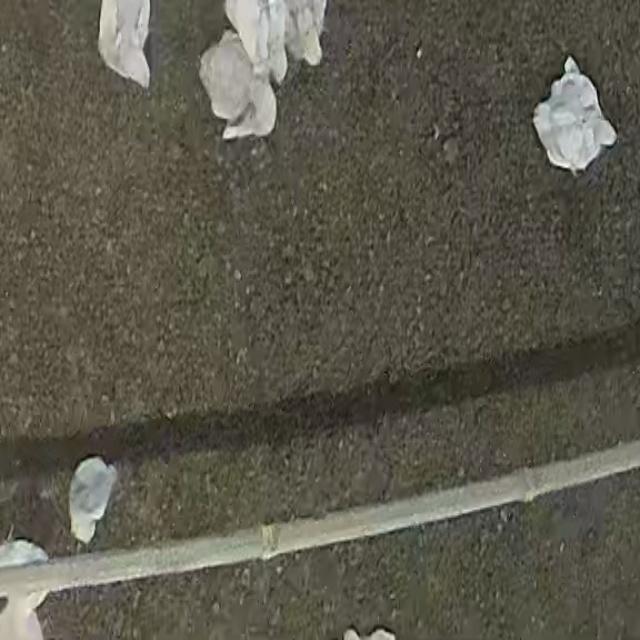chicken: (532, 52, 620, 183), (63, 454, 121, 544)
